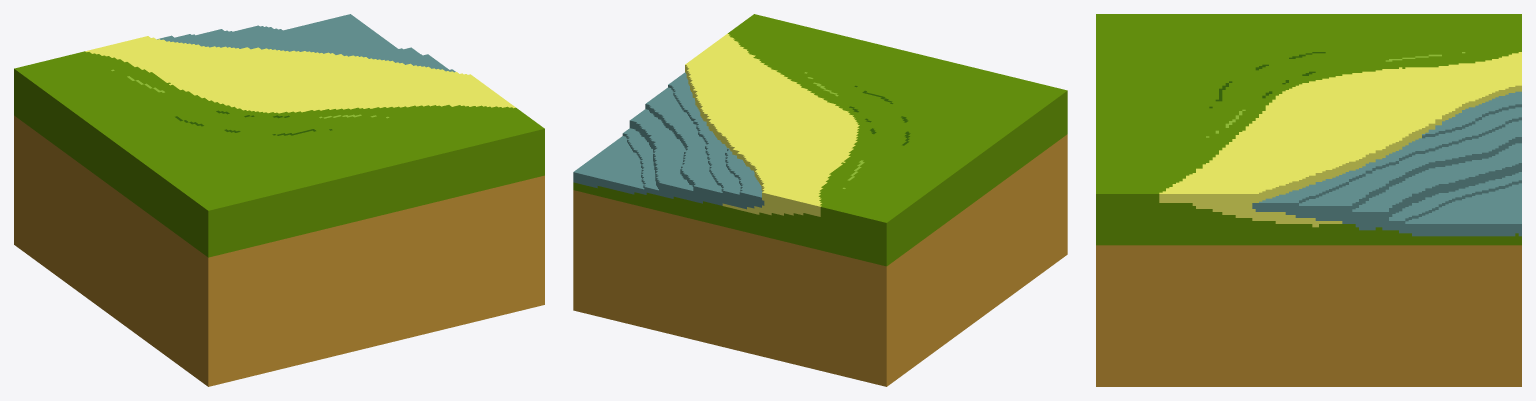
3 renders of one model, left to right at view 1: azimuth 30°, elevation 25°; view 2: azimuth 150°, elevation 25°; view 3: azimuth 270°, elevation 25°, orthographic. The views are drawn at different scales.
Parts seen in each view (by area): view 1: 12L; view 2: 12L; view 3: 12L.
Boxes of the visible parts, x1,y1,x2,y2 form: 12L: [14, 14, 544, 386]; 12L: [573, 14, 1067, 386]; 12L: [1096, 14, 1521, 386].
Bounding box in the file's own units: 12.8 × 6.4 × 12.8.
1 material, 1 textured.
